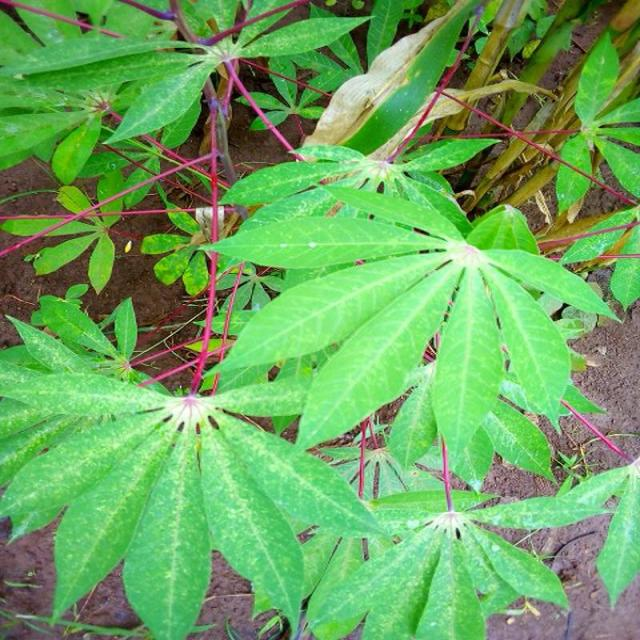cassava leaf: (2, 1, 638, 637), (2, 287, 392, 638), (203, 178, 621, 489)
